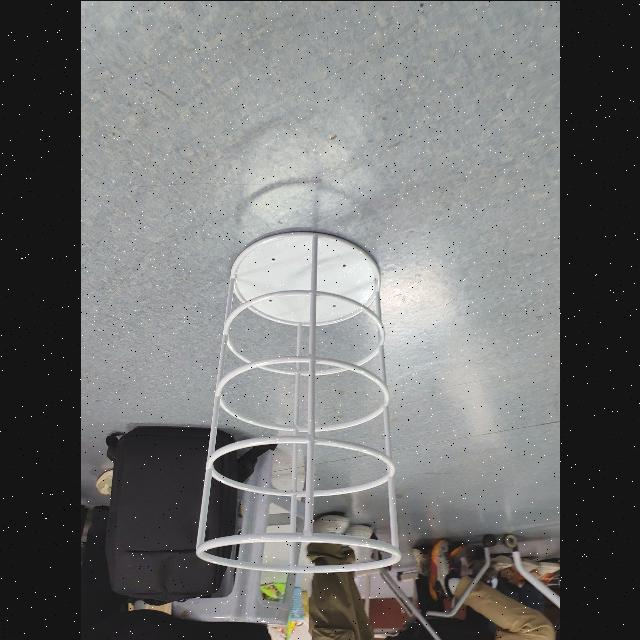S: (194, 224, 403, 574)
